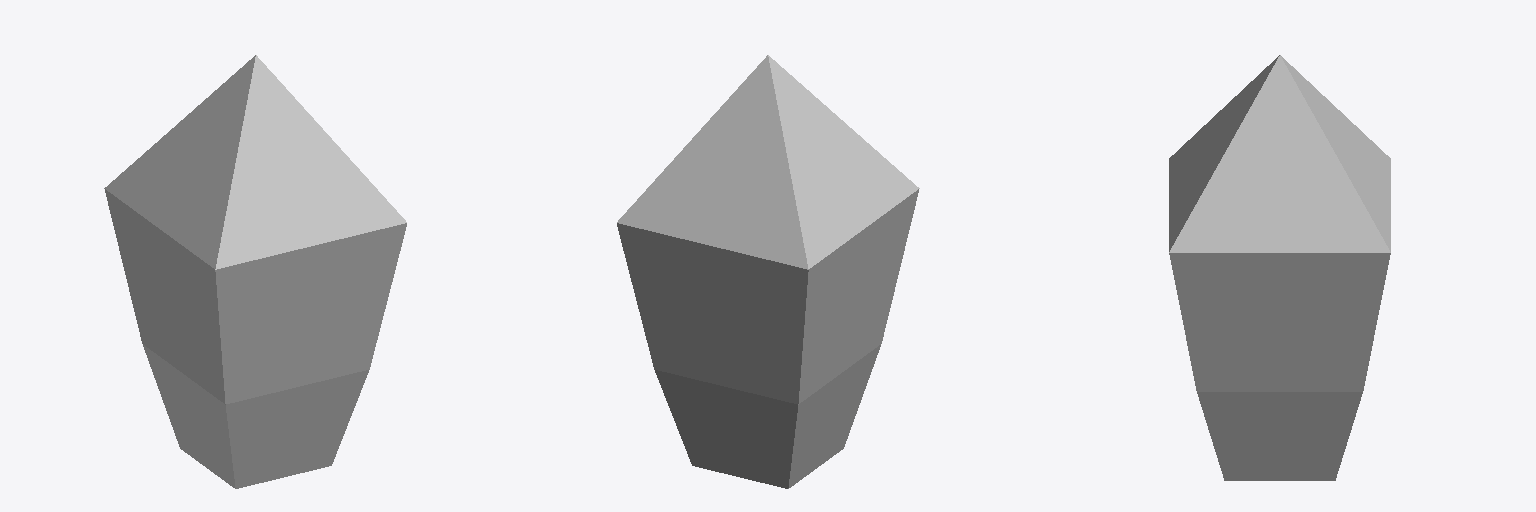
File: septium_crystal.obj
3 renders of one model, left to right at view 1: azimuth 30°, elevation 25°; view 2: azimuth 150°, elevation 25°; view 3: azimuth 270°, elevation 25°, orthographic.
Visible parts, largest first — view 1: Cube_Cube.001; view 2: Cube_Cube.001; view 3: Cube_Cube.001.
Part boxes in pixels (x1,y1,x2,y2): Cube_Cube.001: (104, 55, 406, 488); Cube_Cube.001: (617, 55, 919, 488); Cube_Cube.001: (1169, 55, 1390, 480).
Size of the model in its own units: 0.5 by 1 by 0.5.